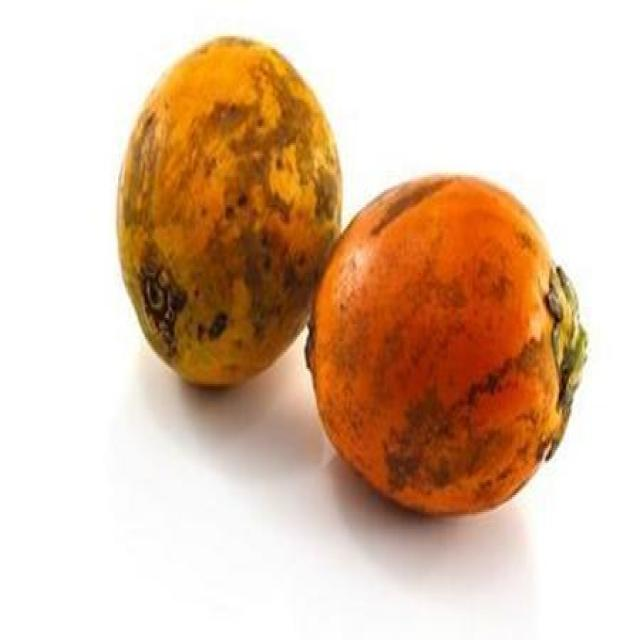good: (306, 175, 589, 518), (118, 38, 343, 390)
